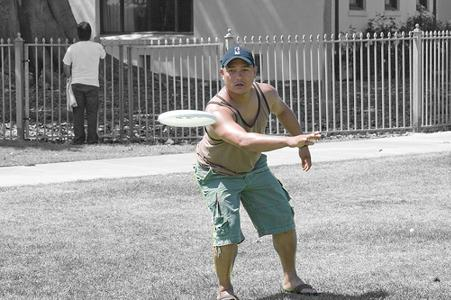person: (194, 47, 321, 300)
